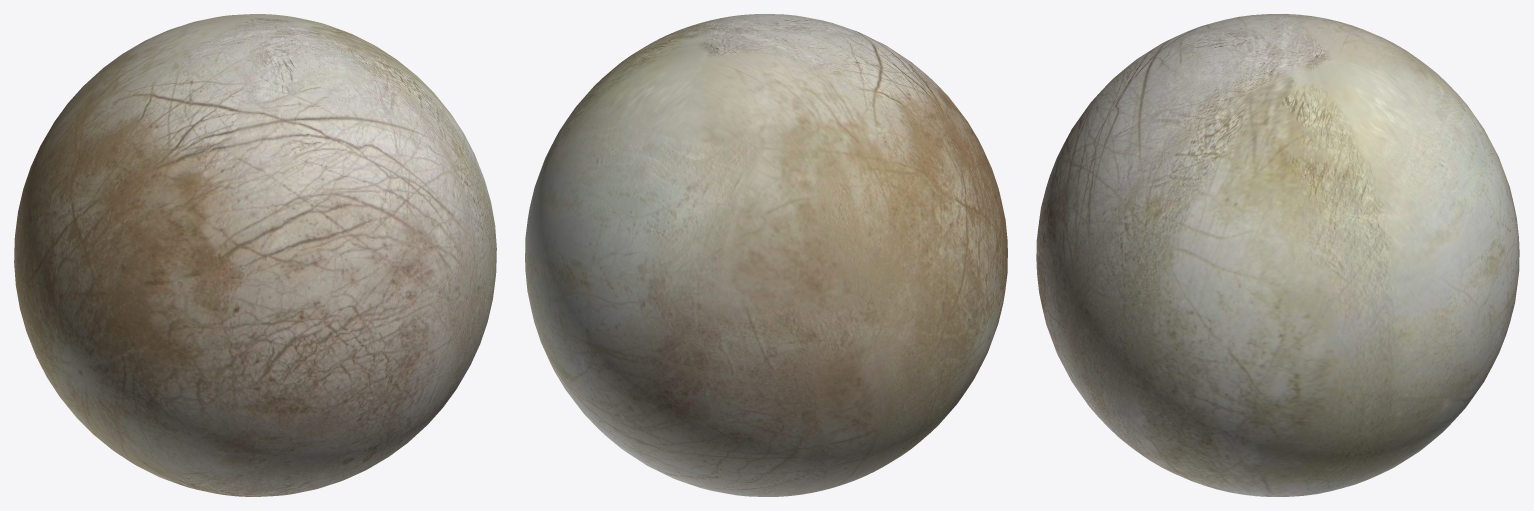
The model's file is europa.fbx.
3 renders of one model, left to right at view 1: azimuth 30°, elevation 25°; view 2: azimuth 150°, elevation 25°; view 3: azimuth 270°, elevation 25°, orthographic.
Parts seen in each view (by area): view 1: Sphere; view 2: Sphere; view 3: Sphere.
Part boxes in pixels (bbox=[...]): Sphere: bbox=[14, 14, 496, 496]; Sphere: bbox=[525, 14, 1007, 496]; Sphere: bbox=[1036, 14, 1519, 496].
Bounding box in the file's own units: 200 × 200 × 200.
